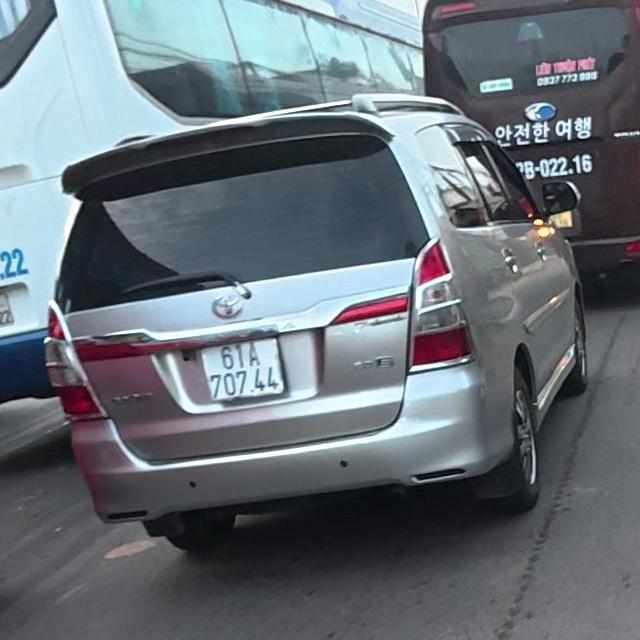license-plate: (200, 337, 284, 402)
